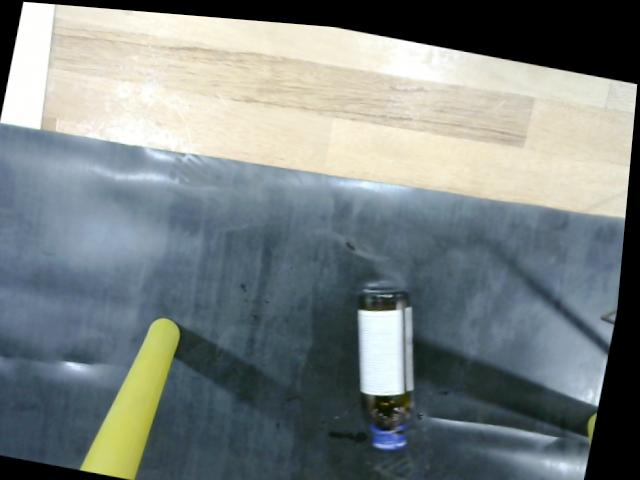glass: (363, 268, 436, 449)
